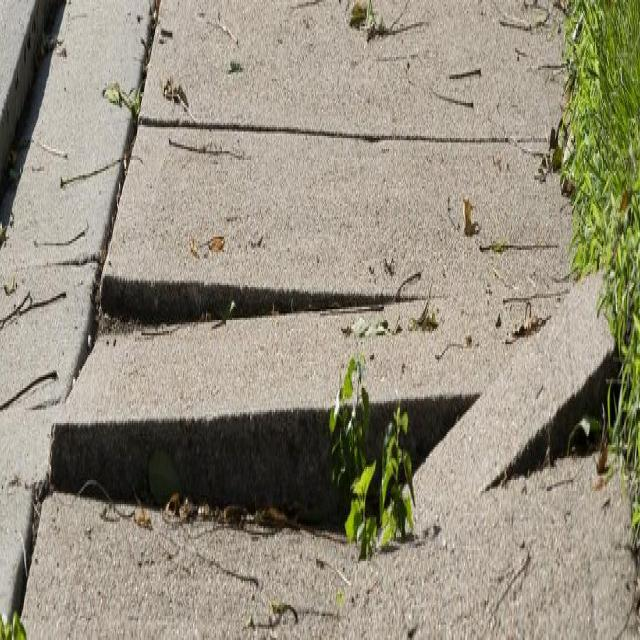bump: (38, 329, 578, 574)
